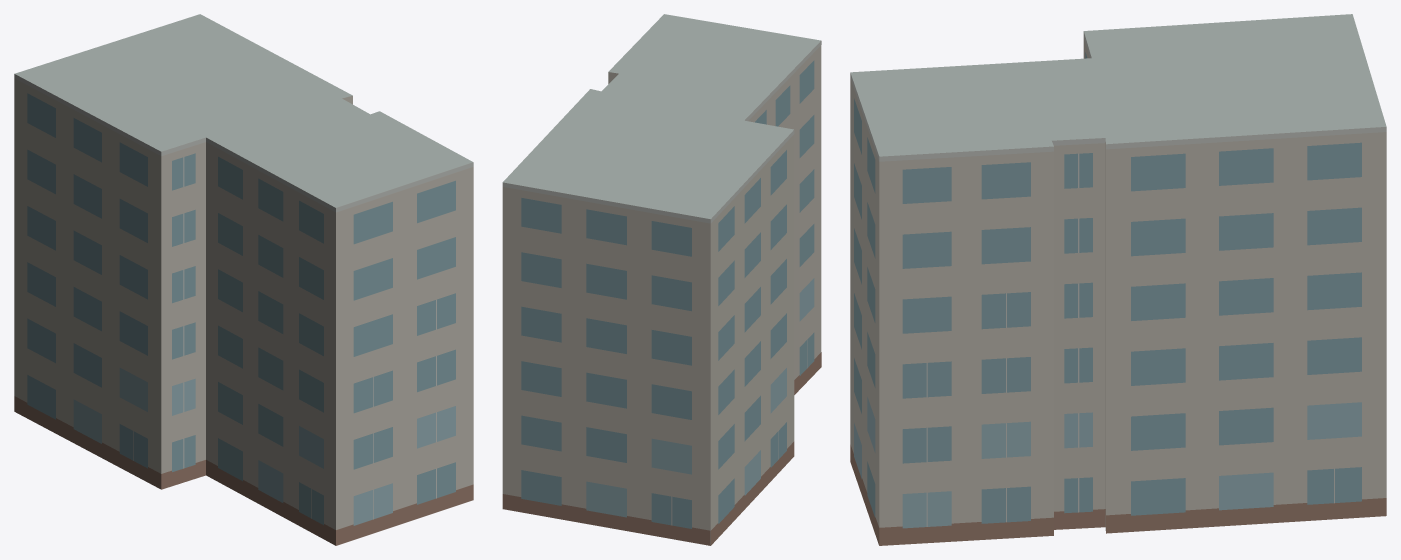
Rendered from survey-upis-32567703.glb.
3 renders of one model, left to right at view 1: azimuth 30°, elevation 25°; view 2: azimuth 150°, elevation 25°; view 3: azimuth 270°, elevation 25°, orthographic. The views are drawn at different scales.
Parts seen in each view (by area): view 1: survey-upis-32567703.tmp; view 2: survey-upis-32567703.tmp; view 3: survey-upis-32567703.tmp.
Boxes of the visible parts, box(x1,y1,x2,y2) form: survey-upis-32567703.tmp: box(14, 14, 473, 545); survey-upis-32567703.tmp: box(502, 14, 821, 545); survey-upis-32567703.tmp: box(850, 14, 1386, 545).
Size of the model in its own units: 14.47 by 18.4 by 22.99.
